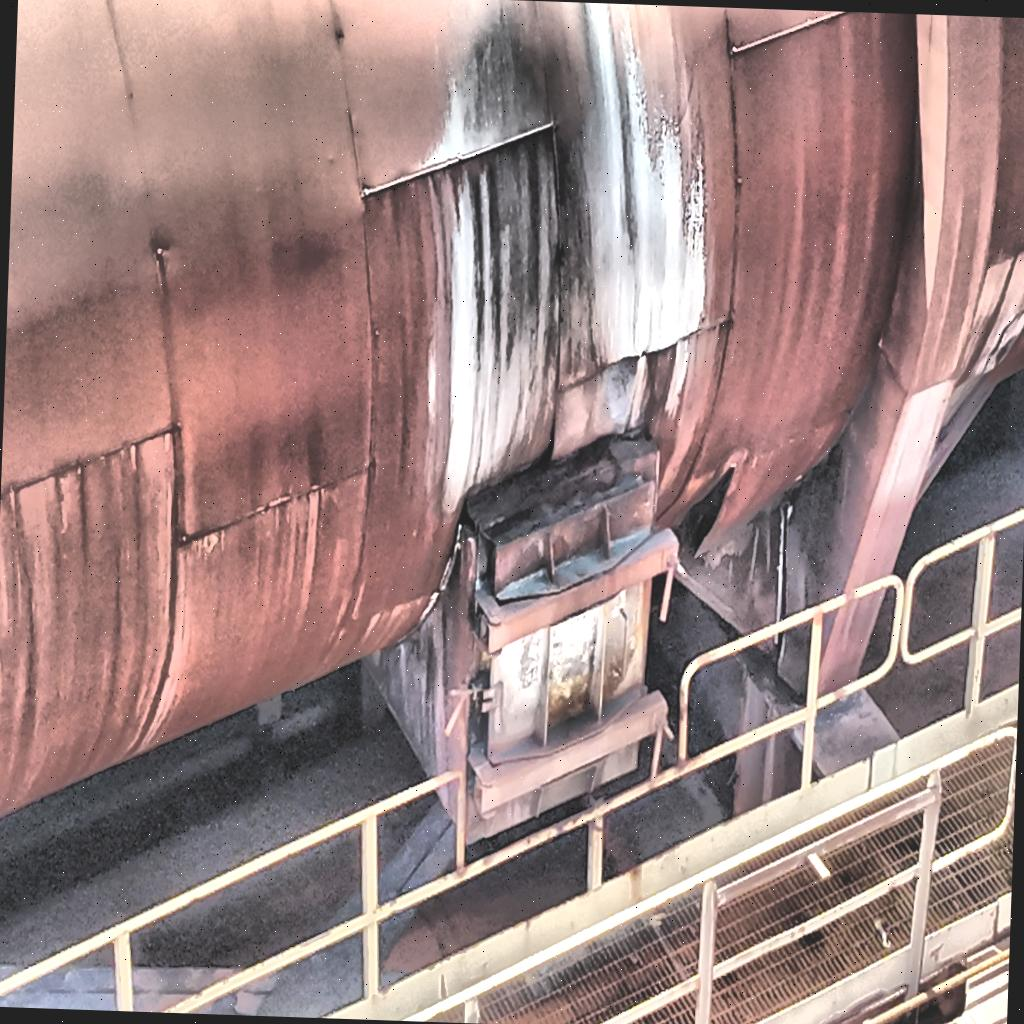Failures: (478, 281, 656, 764), (650, 445, 850, 616)
